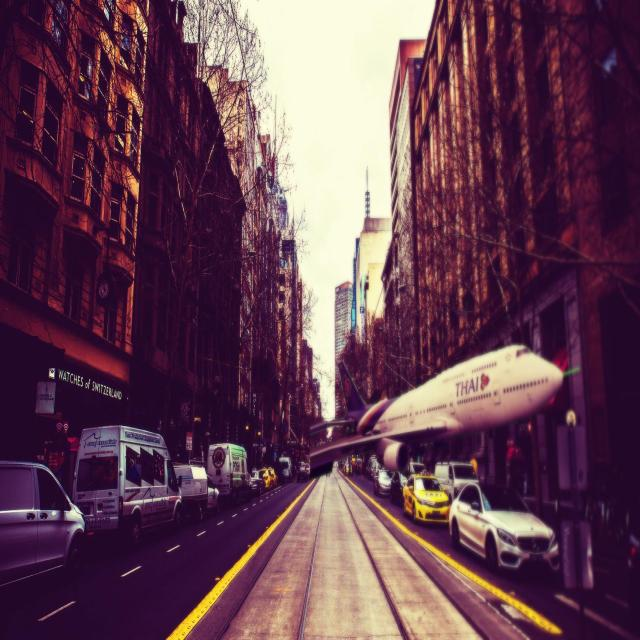airplane: (308, 342, 580, 474)
